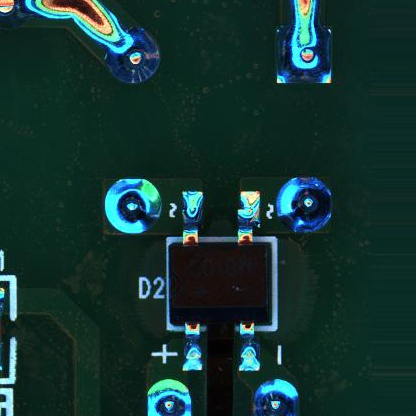spot: (273, 24, 334, 87), (275, 174, 336, 236), (103, 25, 163, 85), (104, 177, 162, 235)
